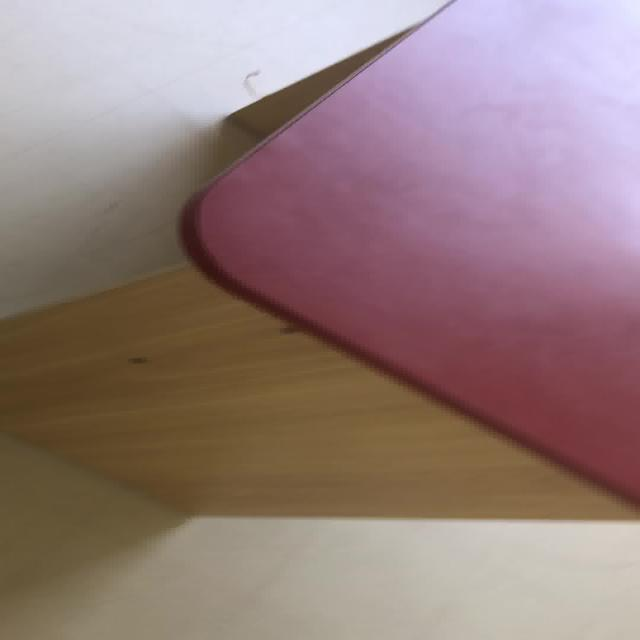sponge: (2, 0, 637, 521), (177, 0, 638, 510)
